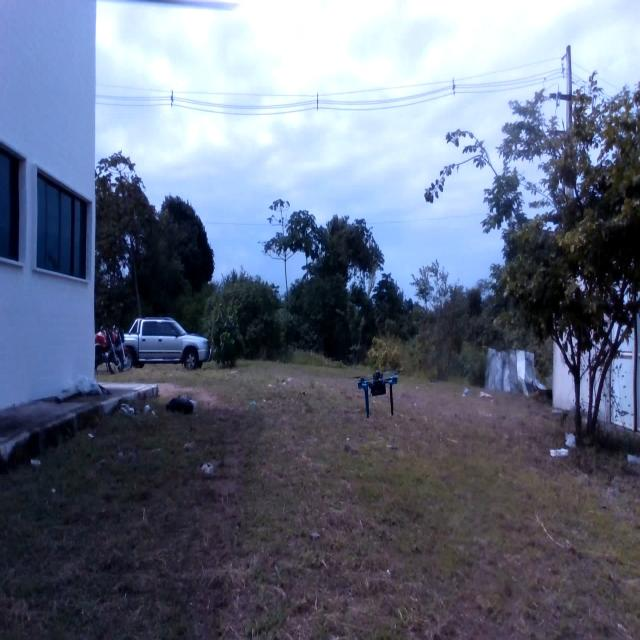-uav-: (356, 365, 400, 427)
